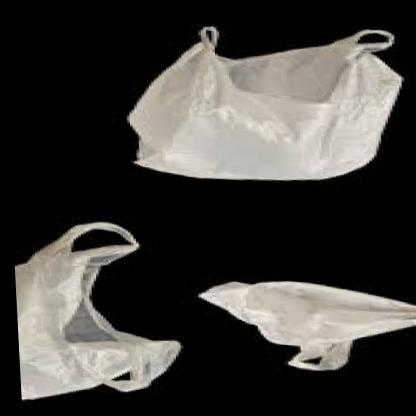Plastic: (96, 10, 408, 216), (9, 212, 195, 416), (187, 250, 416, 384)
